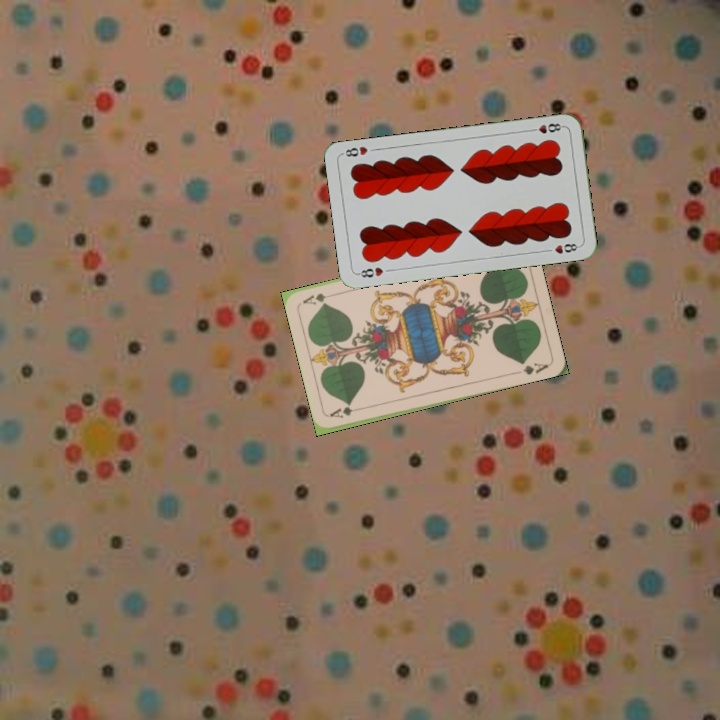GA: (326, 403, 367, 421)
H8: (526, 119, 566, 136), (354, 263, 386, 280)
